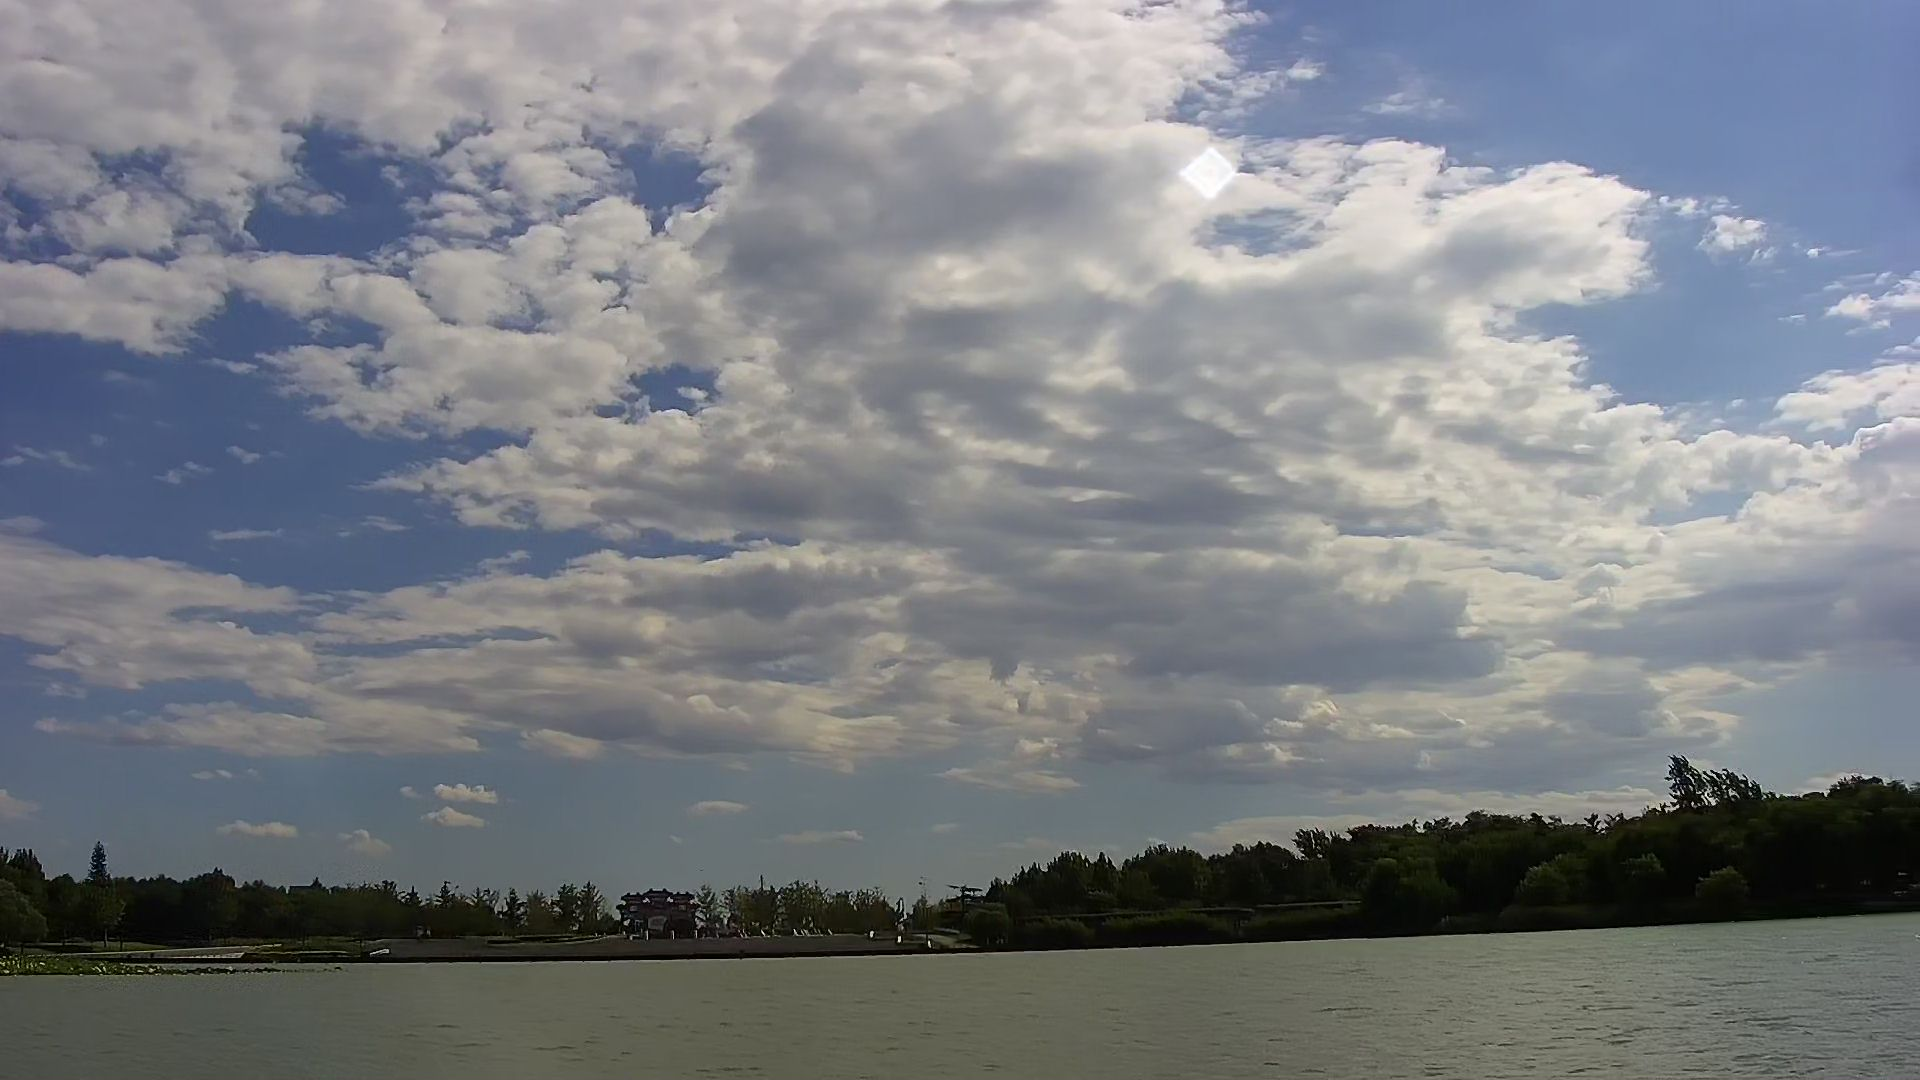harbor: (316, 931, 985, 963)
